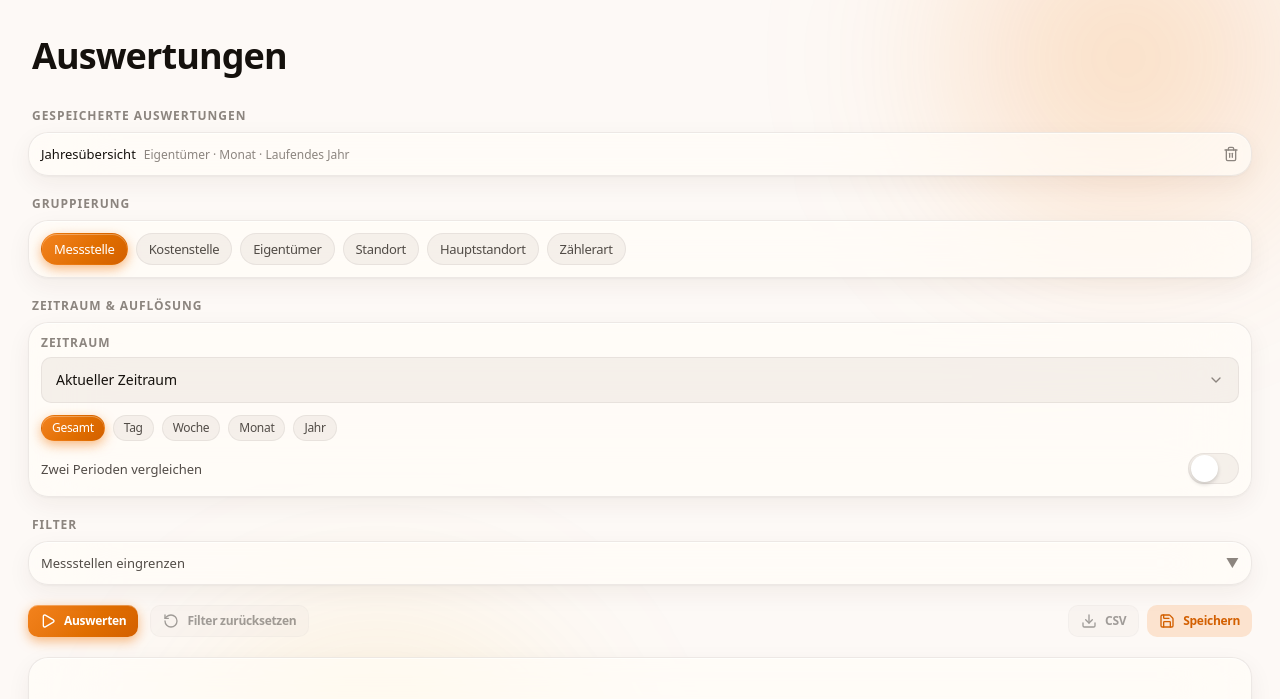
Test: ReportsPage — Filter › gespeicherte Auswertung mit verrechneter Messstelle setzt den Filter
Click the button "Jahresübersicht": [88, 154] box [41,145,1215,163]
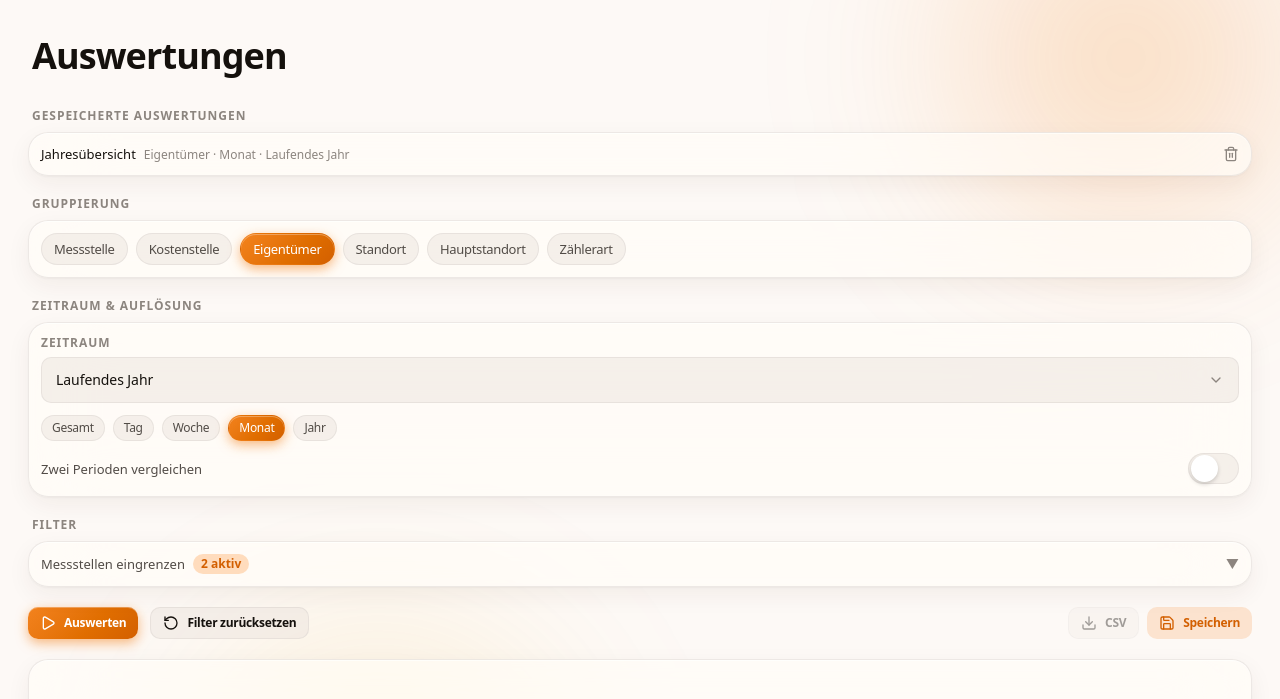
Expected: the text "2 aktiv" is shown, [193,554,249,574]
